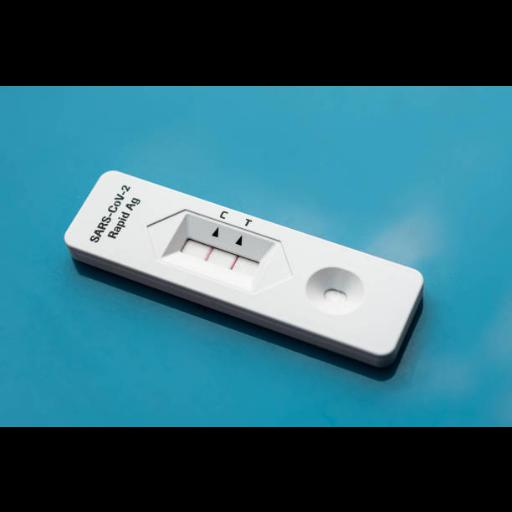Pos: (63, 169, 425, 357)
